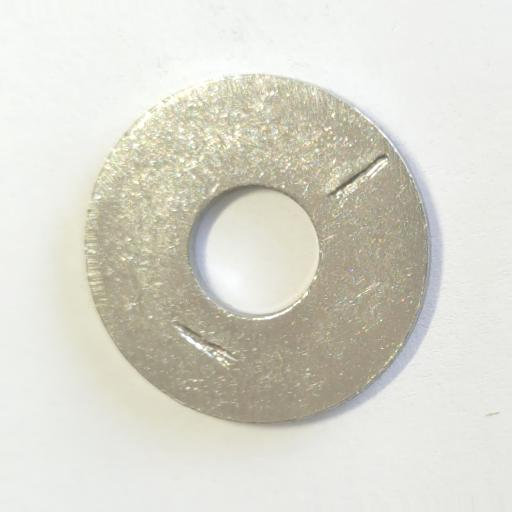scratch: (326, 153, 390, 207), (173, 321, 239, 370)
